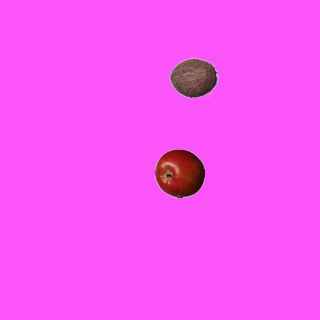Apple Braeburn: (154, 148, 204, 198)
Cocos: (168, 52, 218, 102)
